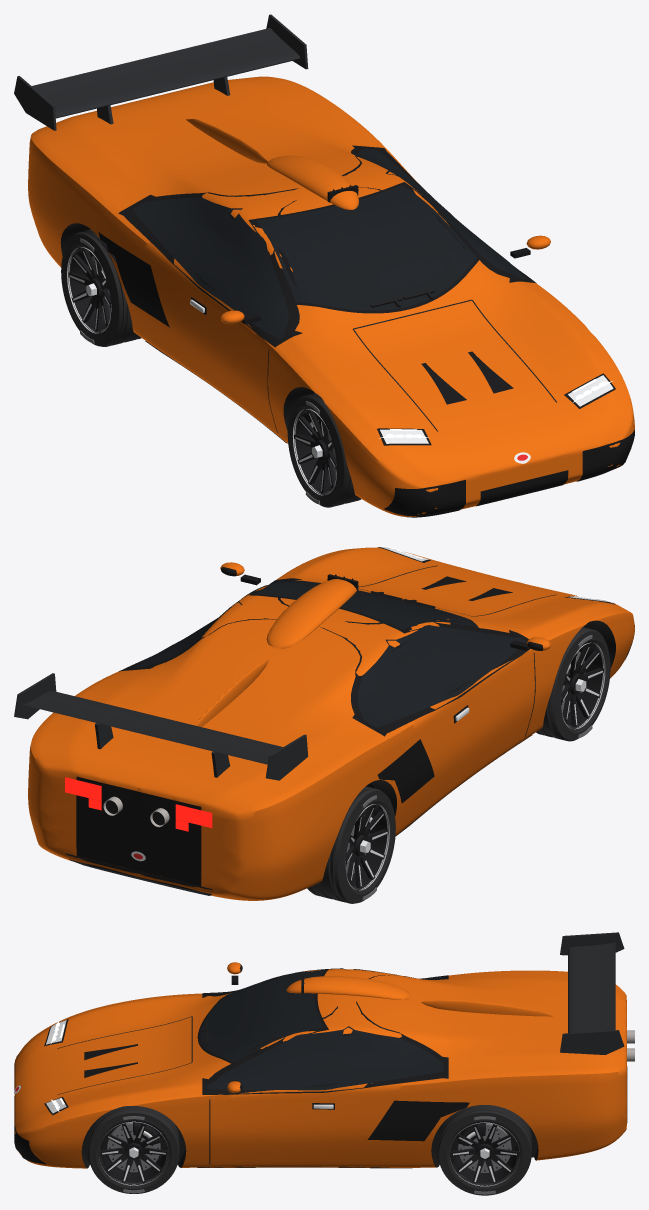
The model's file is sto.glb.
3 views of the same model, one above another, from view 1: azimuth 30°, elevation 25°; view 2: azimuth 150°, elevation 25°; view 3: azimuth 270°, elevation 25° (orthographic). The views are drawn at different scales.
Visible parts, largest first — view 1: Body, Wheel_RR, Wheel_FR; view 2: Body, Wheel_RR, Wheel_FR; view 3: Body, Wheel_RL, Wheel_FL.
Boxes of the visible parts, x1,y1,x2,y2 form: Body: (14,14,634,517); Wheel_RR: (61,229,141,346); Wheel_FR: (287,393,361,507); Body: (14,546,634,900); Wheel_RR: (307,786,395,903); Wheel_FR: (536,627,610,741); Body: (14,932,634,1168); Wheel_RL: (438,1105,531,1195); Wheel_FL: (88,1106,179,1193).
Size of the model in its own units: 2.25 by 1.35 by 4.64.
